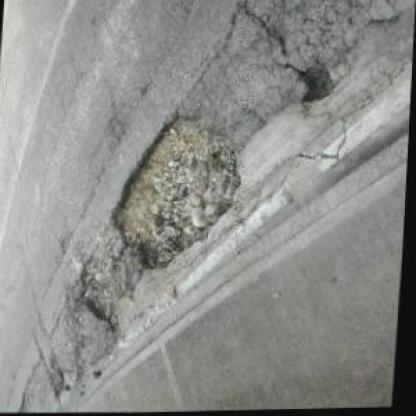pothole: (102, 108, 250, 276), (74, 254, 128, 336), (293, 61, 337, 107), (48, 356, 82, 396)
